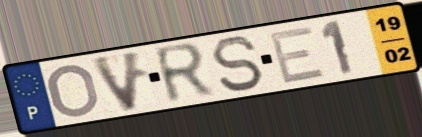1: (319, 17, 357, 78)
E: (266, 23, 328, 86)
O: (46, 62, 102, 119)
R: (151, 40, 218, 107)
S: (208, 34, 267, 94)
V: (87, 48, 144, 115)
